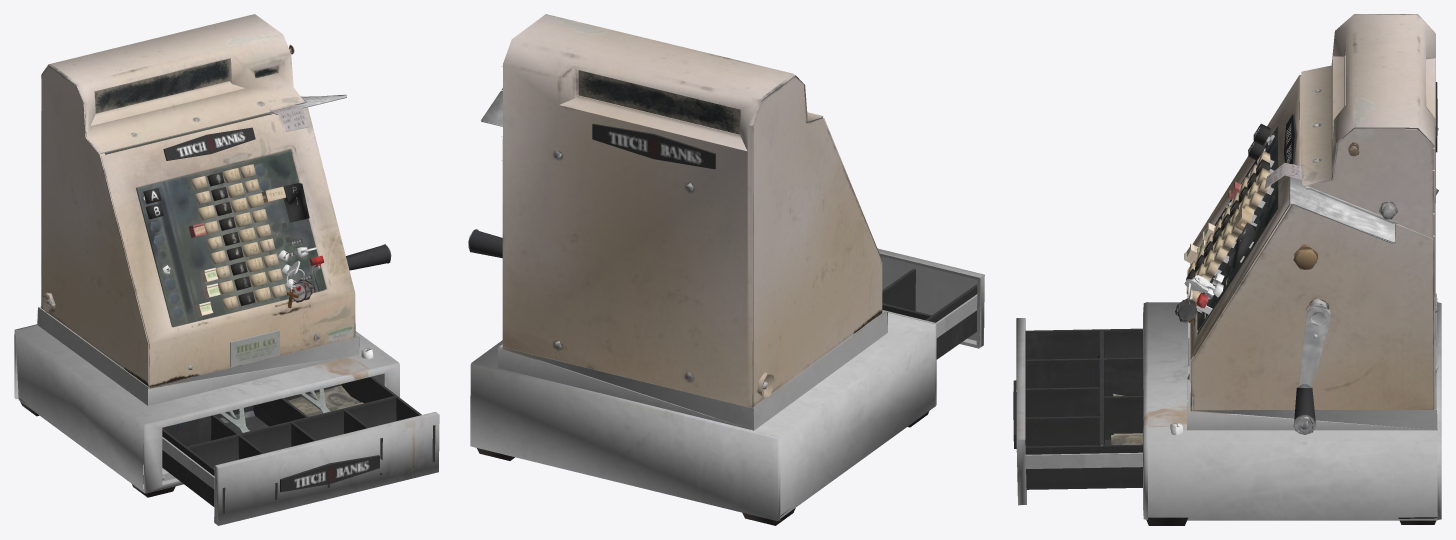
Rendered from CashRegister_01.gltf.
3 renders of one model, left to right at view 1: azimuth 30°, elevation 25°; view 2: azimuth 150°, elevation 25°; view 3: azimuth 270°, elevation 25°, orthographic. The views are drawn at different scales.
Visible parts, largest first — view 1: CashRegister_01; view 2: CashRegister_01; view 3: CashRegister_01.
Boxes of the visible parts, bbox=[...] form: CashRegister_01: bbox=[14, 14, 439, 525]; CashRegister_01: bbox=[468, 14, 984, 525]; CashRegister_01: bbox=[1013, 14, 1441, 525].
Bounding box in the file's own units: 0.6 × 0.6219 × 0.6229.
Materials: 1 (1 with a texture image).
